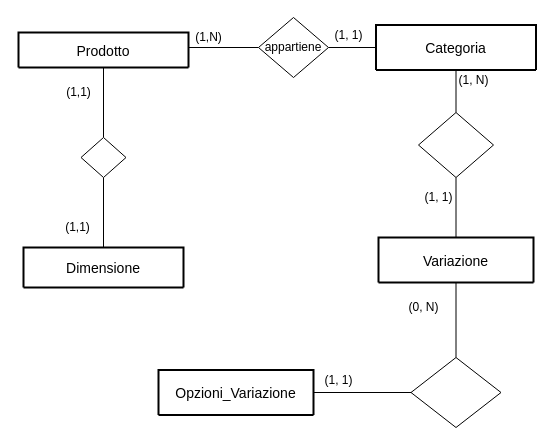
Some shapes in this 554 by 445 pixel diagram are drawn without their labels. Each missing label, with the box of its shape:
appertiene: (418, 112, 494, 178)
configurazione: (410, 356, 501, 428)
Ha: (80, 136, 126, 178)
